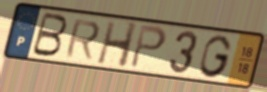3: (166, 29, 199, 76)
B: (29, 11, 70, 59)
G: (198, 33, 234, 80)
H: (95, 20, 140, 70)
P: (128, 23, 168, 71)
R: (63, 18, 102, 62)
